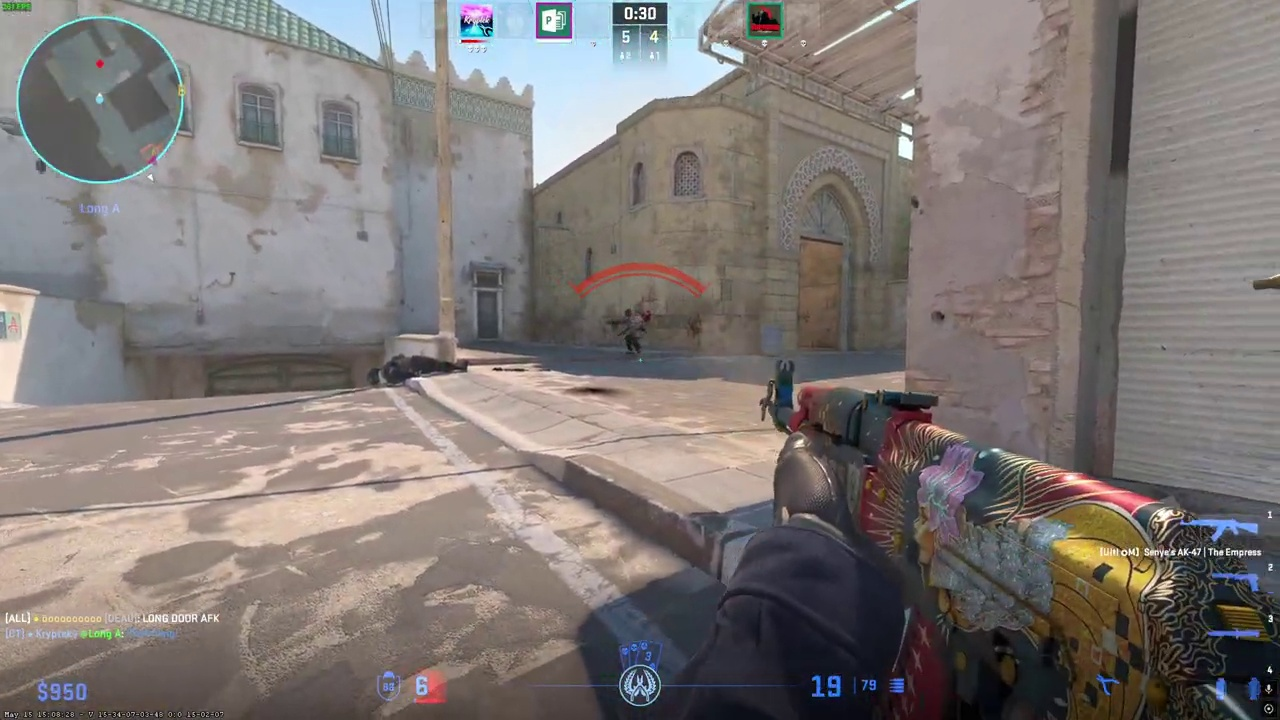Terrorist: (621, 308, 644, 354)
